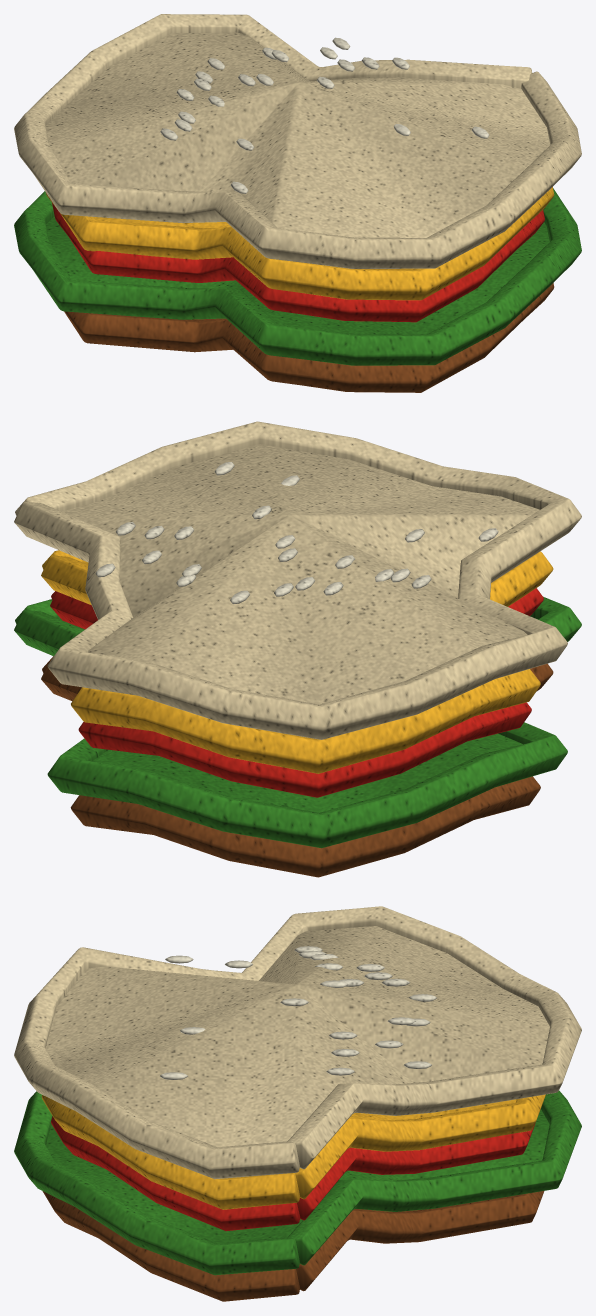
File: food-09-full.glb
The picture shows the model from 3 angles, top to bottom: view 1: azimuth 30°, elevation 25°; view 2: azimuth 150°, elevation 25°; view 3: azimuth 270°, elevation 25°; orthographic projection. The views are drawn at different scales.
Parts seen in each view (by area): view 1: Food; view 2: Food; view 3: Food.
Boxes of the visible parts, x1=… form: Food: x1=14, y1=14, x2=581, y2=392; Food: x1=14, y1=421, x2=581, y2=877; Food: x1=14, y1=906, x2=581, y2=1301.
Bounding box in the file's own units: 0.6122 × 0.2619 × 0.6161.
Materials: 1 (1 with a texture image).
